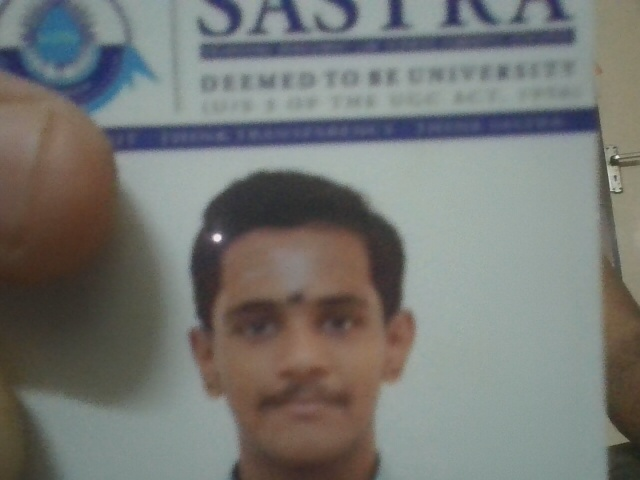fake: (188, 234, 409, 455)
